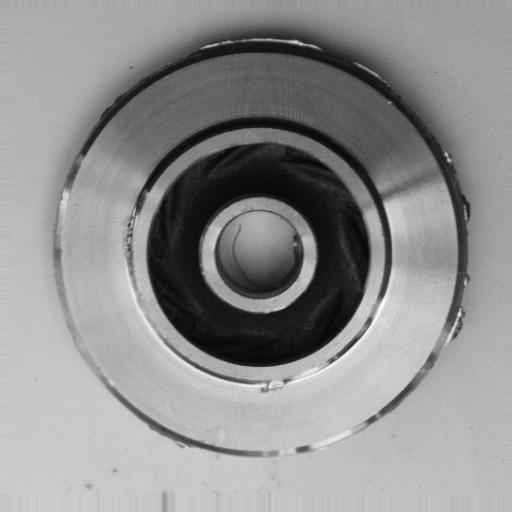casting_with_burr: (53, 33, 475, 460)
crack: (118, 176, 152, 307), (254, 359, 325, 402)
